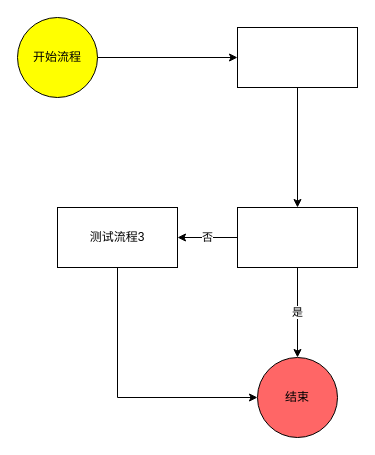
The diagram is 375 pixels wide and 455 high, and some of its shapes have lost their labels. The shapes that lost their labels are listed below. From the top down, each one's centre as x and y in pixels, then its label:
(297,57): 测试流程1
(297,237): 测试流程2
